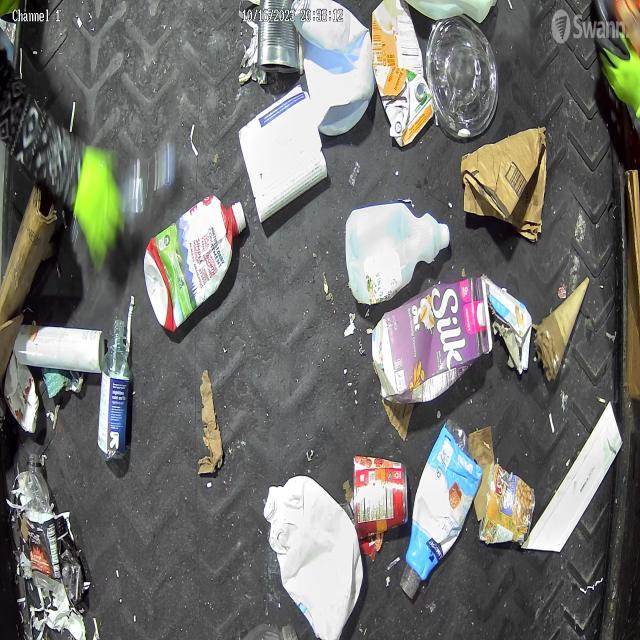can: (349, 452, 412, 549), (248, 0, 300, 84)
milk_jug: (262, 465, 364, 640), (292, 0, 377, 136)
